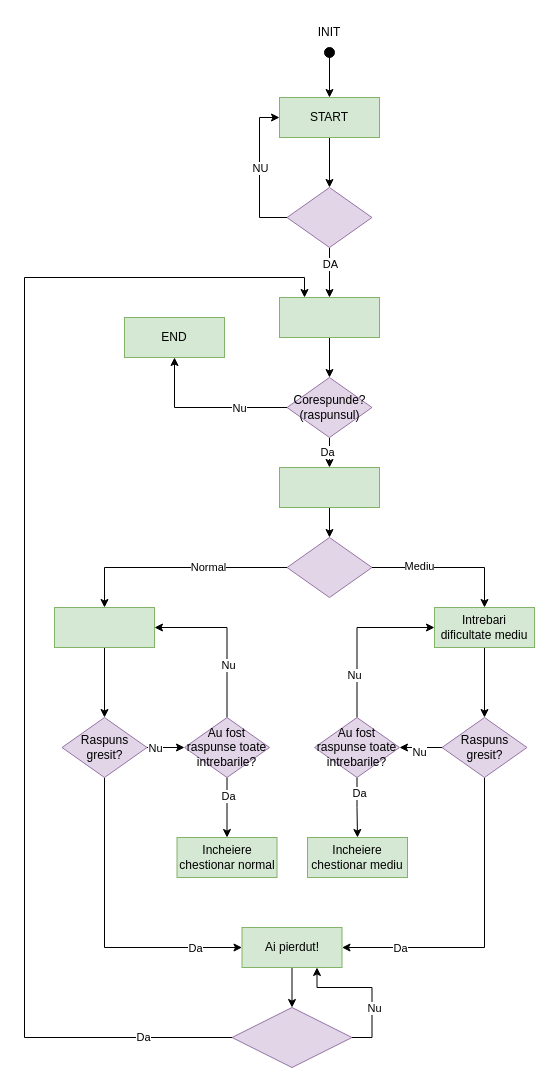
This 552x1085 diagram has some shape labels left out. Here are the shapes that lost their labels. From the top down, the box of each, then its label:
(286, 186, 372, 248): S-a apasat incepe?
(278, 296, 380, 338): Conditie de participare
(278, 466, 380, 508): Alegere dificultate
(286, 536, 372, 598): Ce dificultate s-a ales?
(54, 606, 154, 648): Intrebari dificultate normal
(231, 1006, 352, 1068): S-a apasat ia-o de la inceput?
